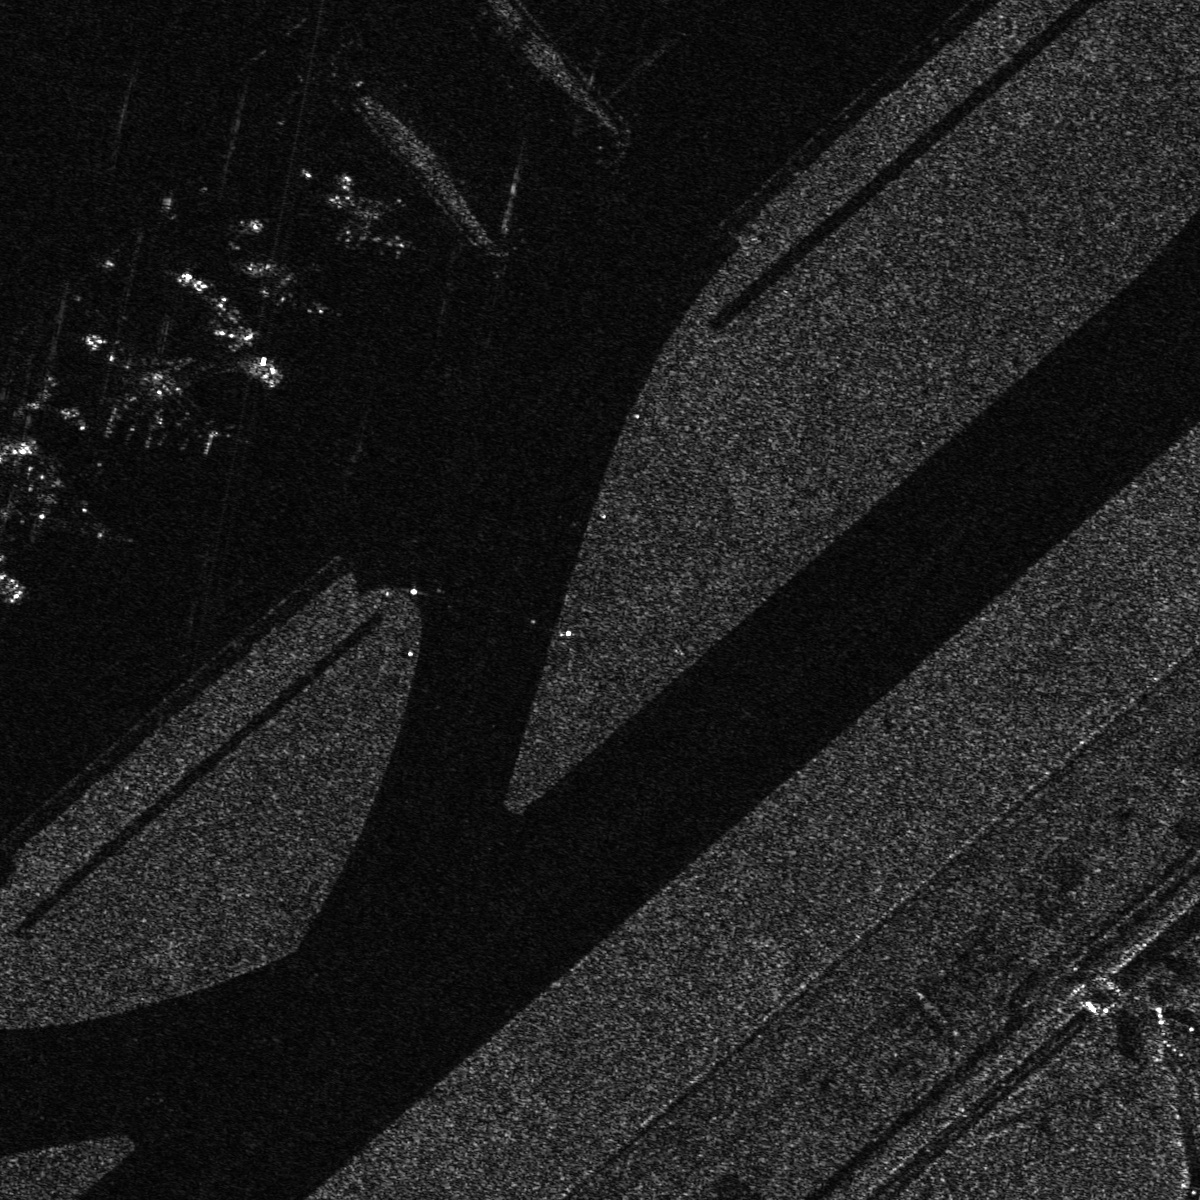Boeing737: (327, 179, 416, 266), (244, 251, 327, 327)
other: (76, 327, 216, 451)
